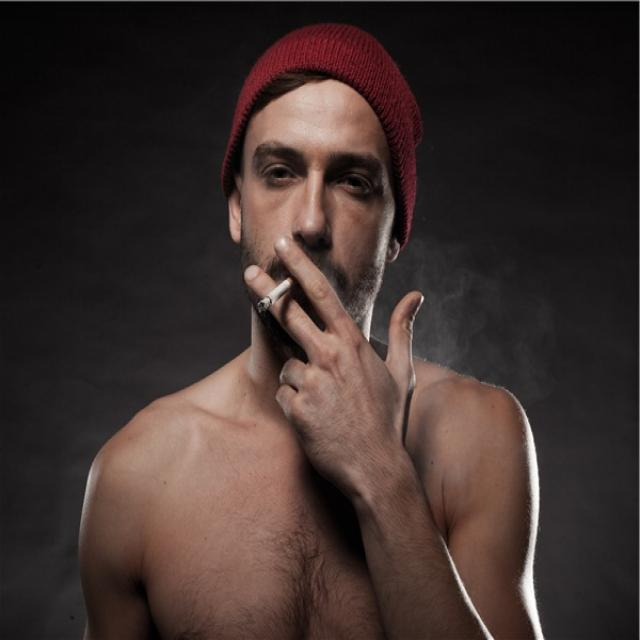smoking: (257, 271, 298, 315)
